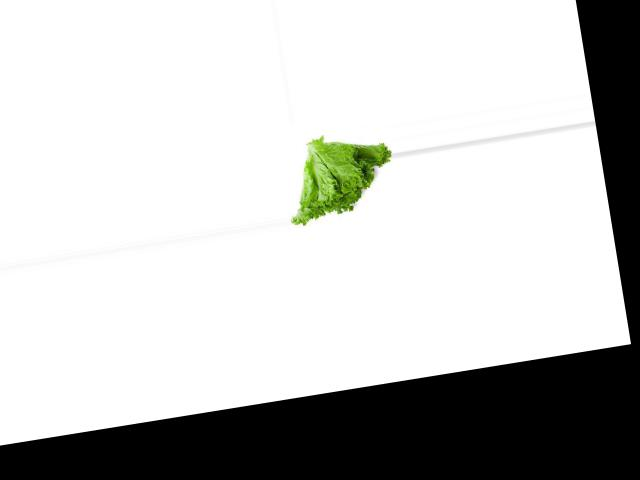lettuce: (278, 128, 402, 229)
